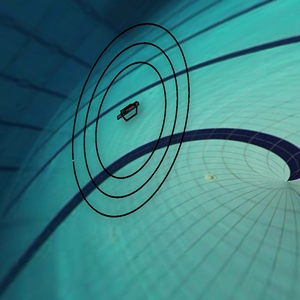circle: (55, 11, 212, 234)
submarine: (110, 92, 146, 126)
